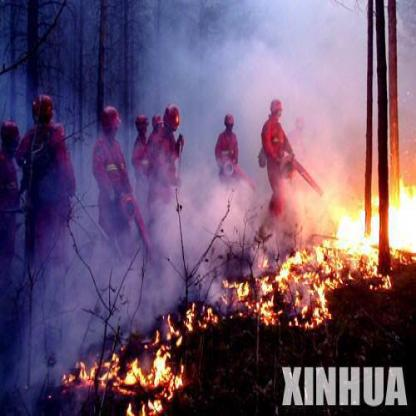fire: (228, 202, 414, 330), (63, 333, 194, 414), (150, 297, 222, 332)
